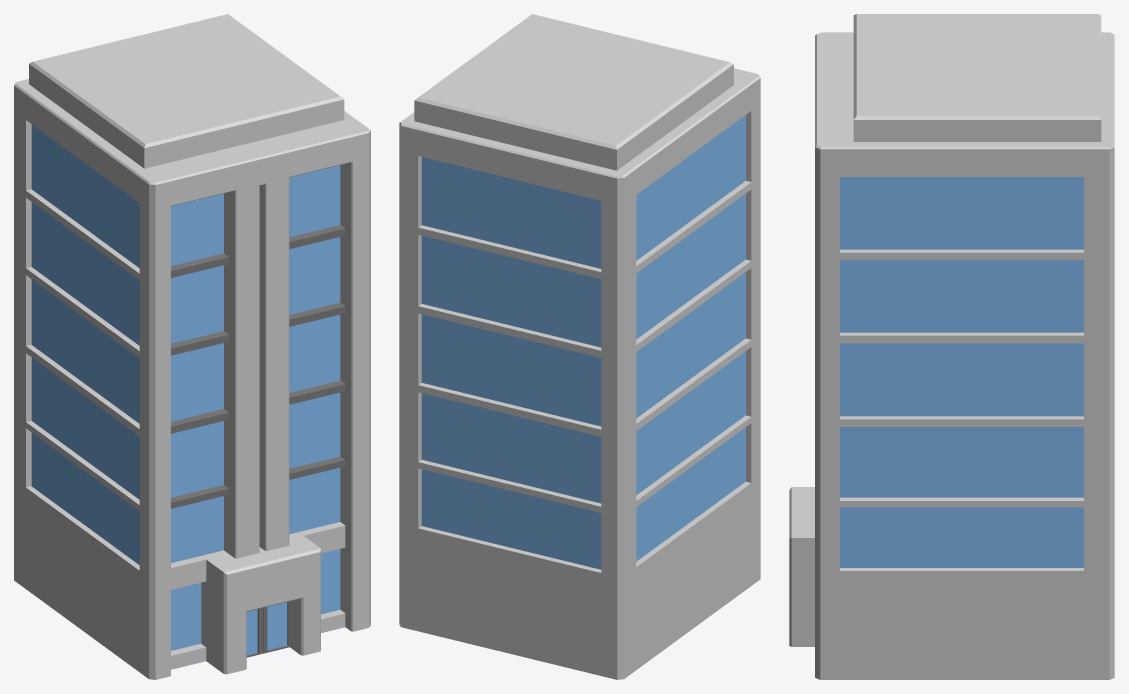
Rendered from Entorno_Edificio_03_LowPoly_MacarenaMaidana.fbx.
3 renders of one model, left to right at view 1: azimuth 30°, elevation 25°; view 2: azimuth 150°, elevation 25°; view 3: azimuth 270°, elevation 25°, orthographic. The views are drawn at different scales.
Parts seen in each view (by area): view 1: Cube.001; view 2: Cube.001; view 3: Cube.001.
Part boxes in pixels (x1,y1,x2,y2): Cube.001: (14, 14, 370, 679); Cube.001: (399, 14, 760, 679); Cube.001: (789, 14, 1114, 679).
Bounding box in the file's own units: 2981 × 6667 × 3533.
